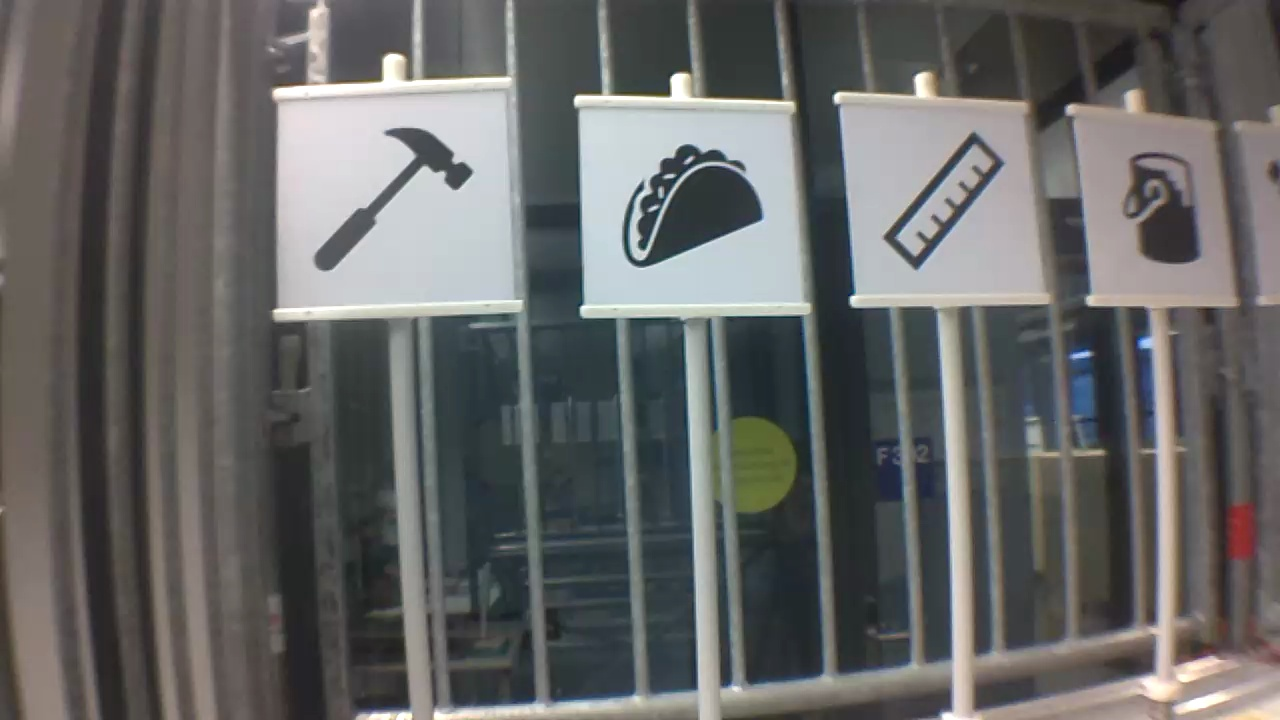bucket: (1117, 143, 1206, 268)
hammer: (308, 117, 476, 277)
ruler: (876, 126, 1014, 273)
taco: (615, 138, 769, 274)
